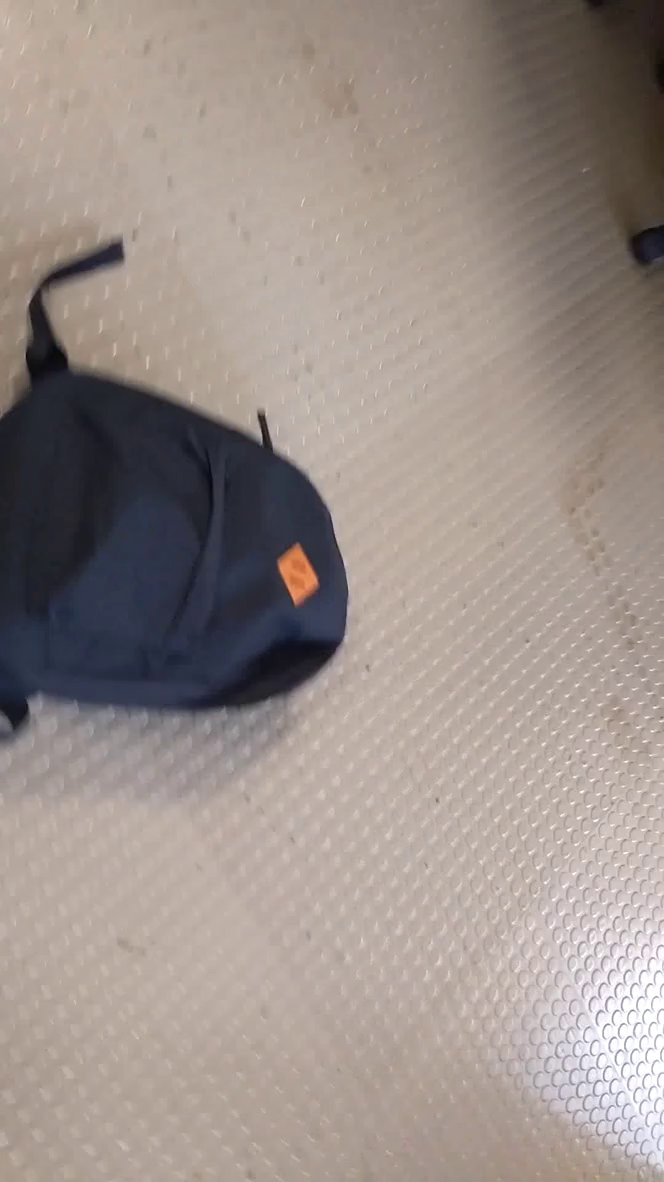bag: (1, 214, 359, 752)
